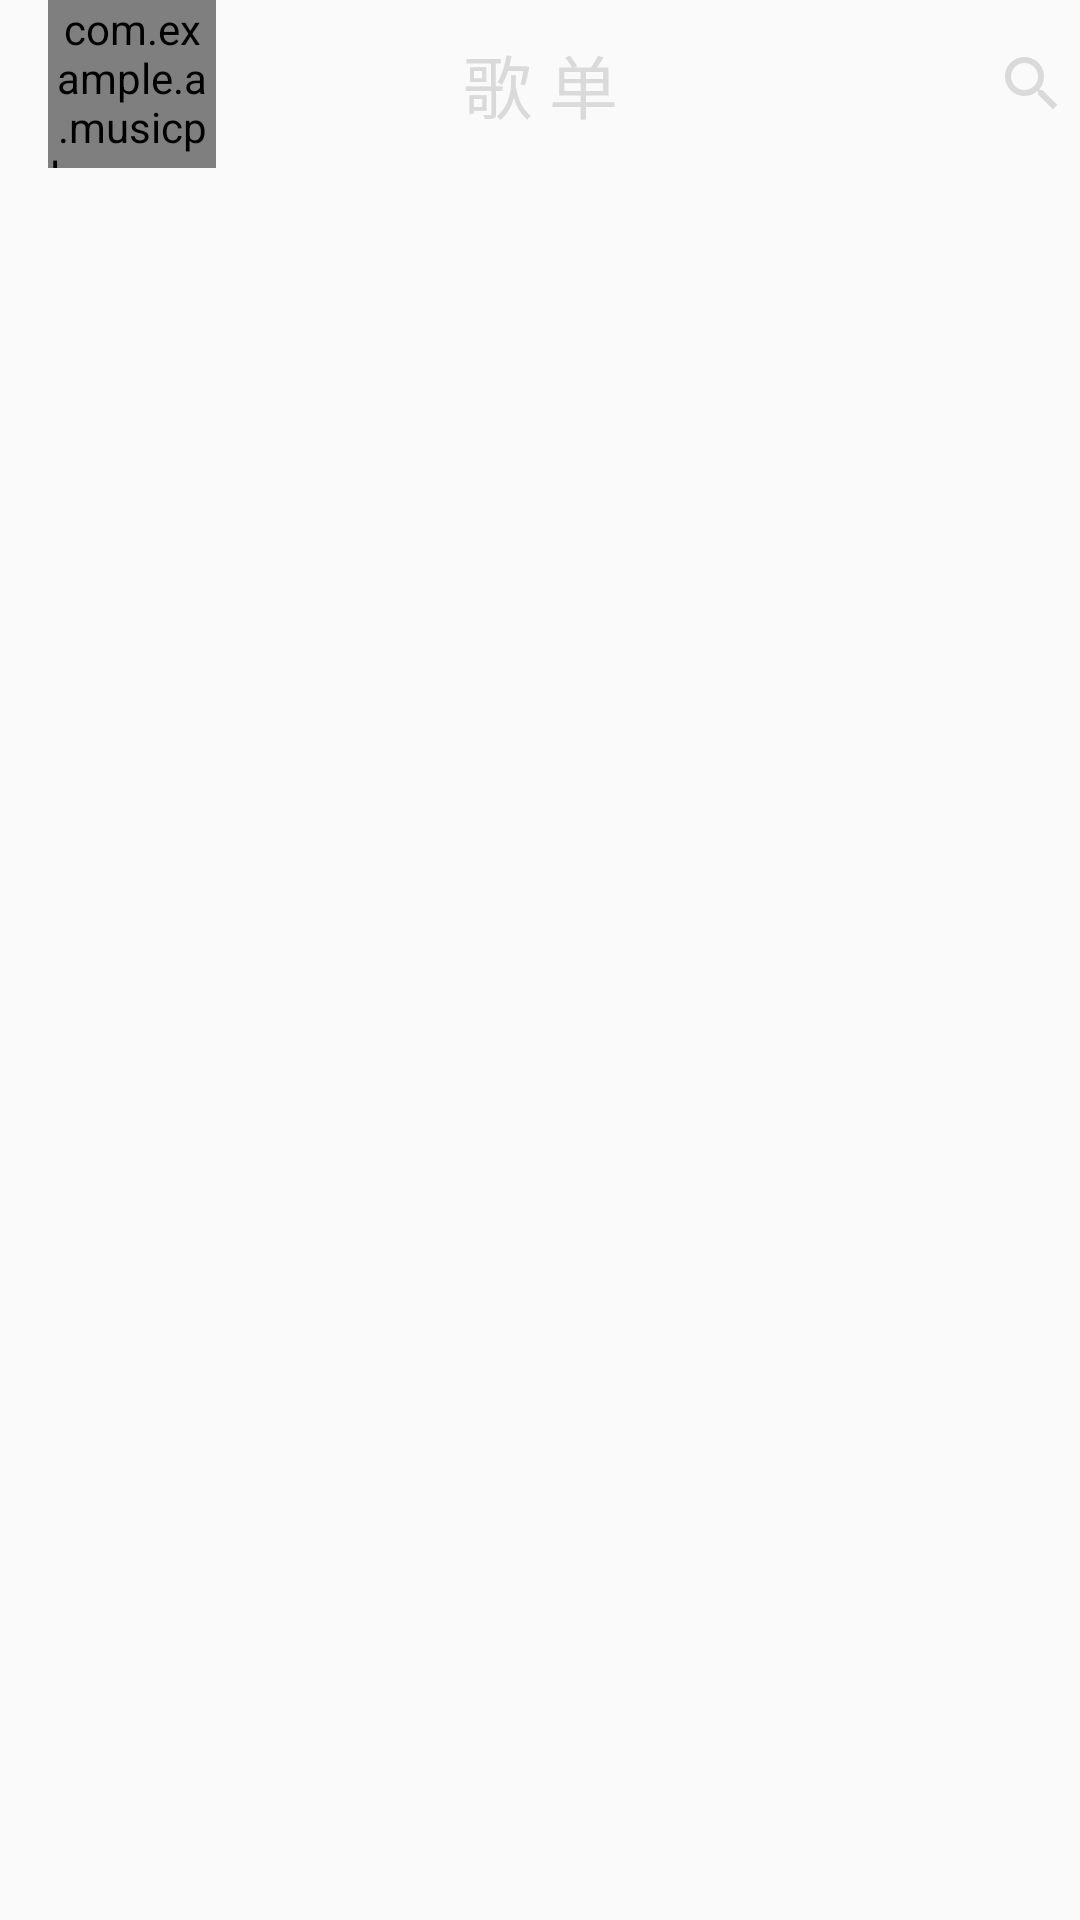

Named icons in this screenshot (1080x1920) and their bounding boxes, region(x1, y1, x2, y2):
search: region(1005, 57, 1057, 109)
